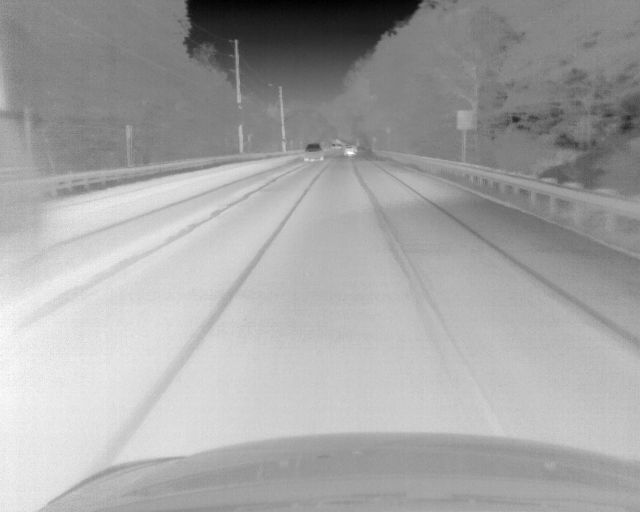car: (1, 98, 53, 289), (304, 143, 324, 163), (342, 145, 357, 158)
